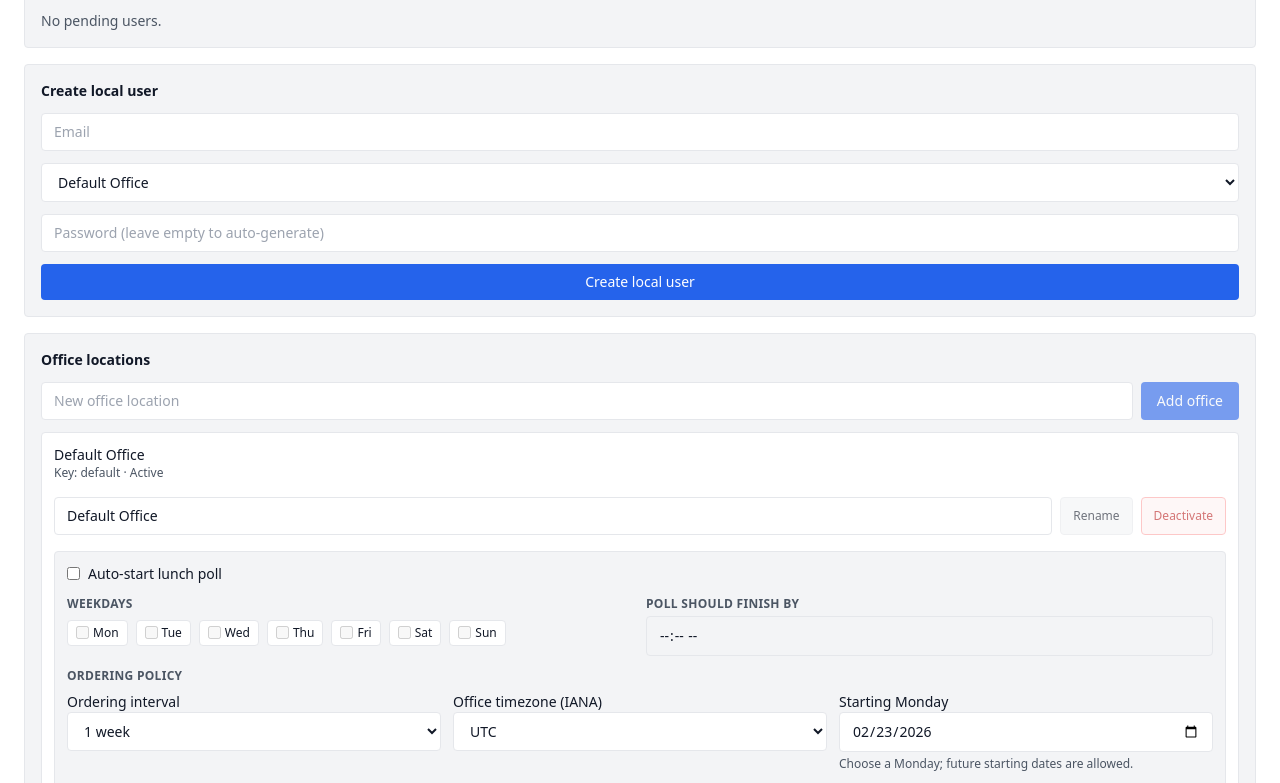
Scenario: Administration page › creates a new office location
(page scrolled)
Type "Berlin" into the field with placeholder "New office location" at (587, 400), box [41, 382, 1133, 420]
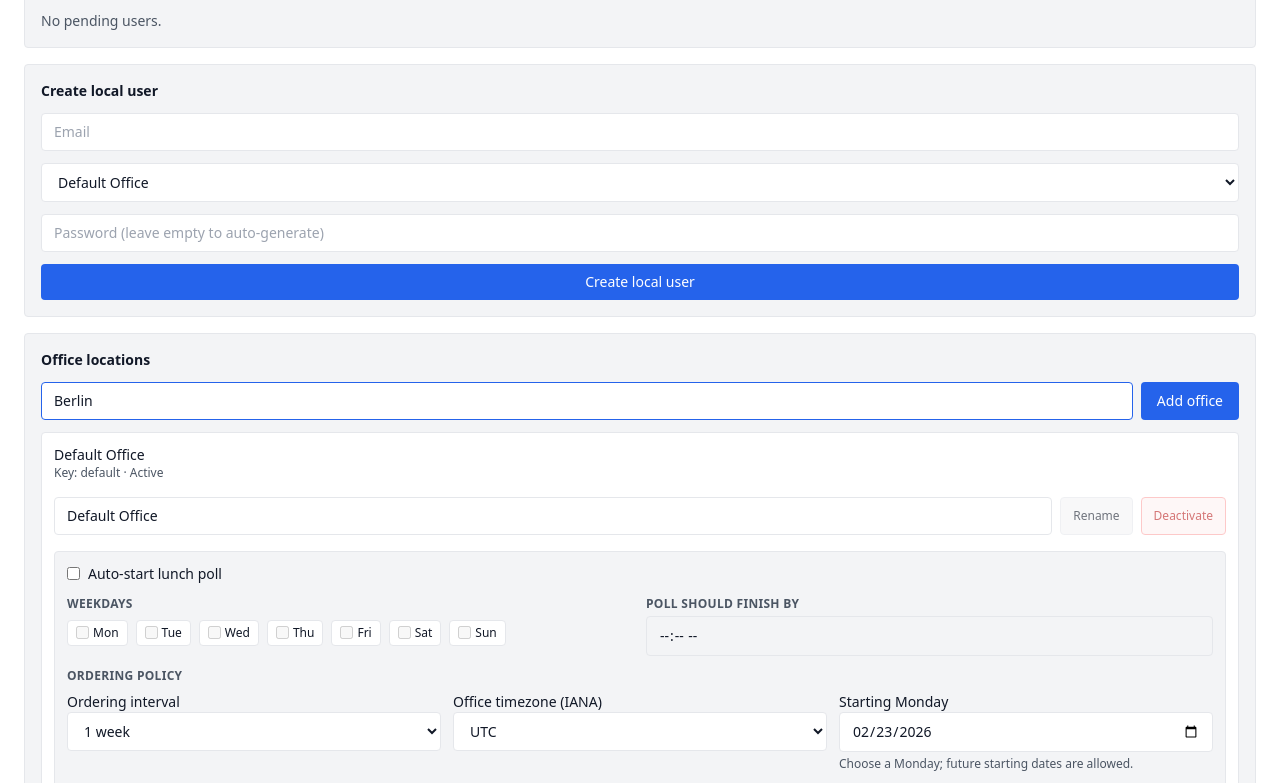
Click the button "Add office" at (1190, 400), box [1141, 382, 1239, 420]
(page scrolled)
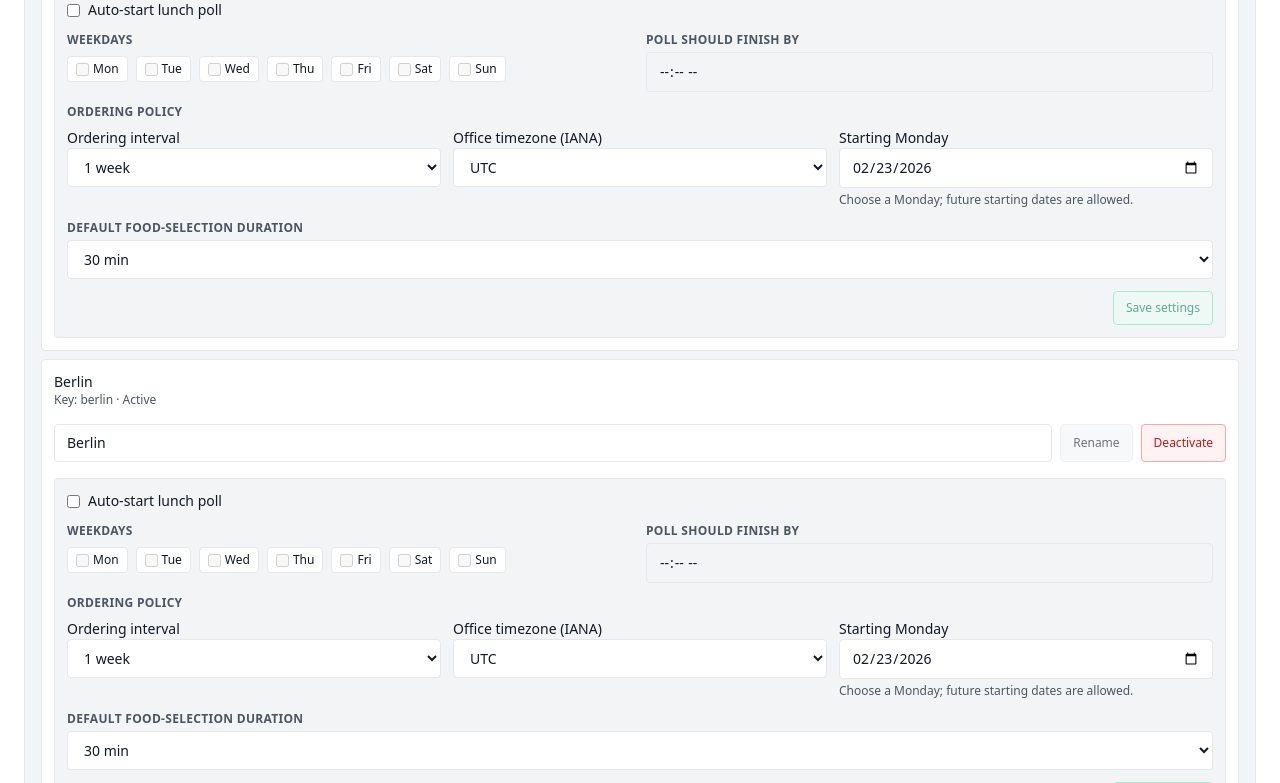
Expected: the text "Key: berlin · Active" is shown, [54, 391, 156, 408]
